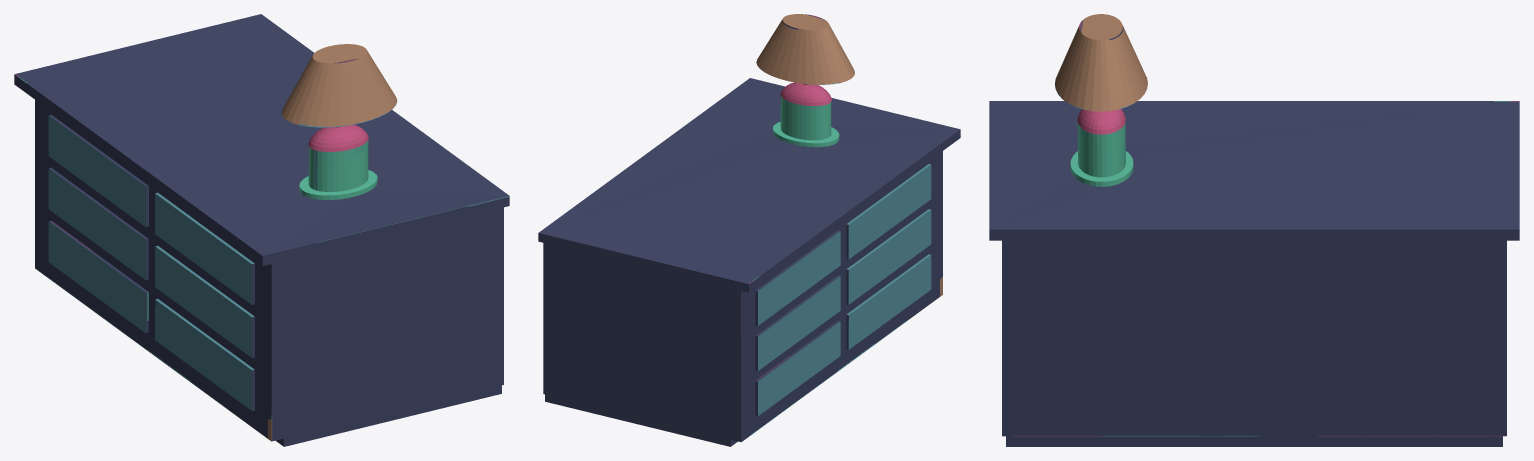
Rendered from Comoda.obj.
The picture shows the model from 3 angles, left to right: view 1: azimuth 30°, elevation 25°; view 2: azimuth 150°, elevation 25°; view 3: azimuth 270°, elevation 25°; orthographic projection. The views are drawn at different scales.
Parts seen in each view (by area): view 1: Cube.013_Cube.031; view 2: Cube.013_Cube.031; view 3: Cube.013_Cube.031.
Boxes of the visible parts, x1,y1,x2,y2 form: Cube.013_Cube.031: (14,14,509,446); Cube.013_Cube.031: (538,14,960,446); Cube.013_Cube.031: (989,14,1519,446).
Size of the model in its own units: 11.79 by 15.32 by 20.52.
1 material, 1 textured.
